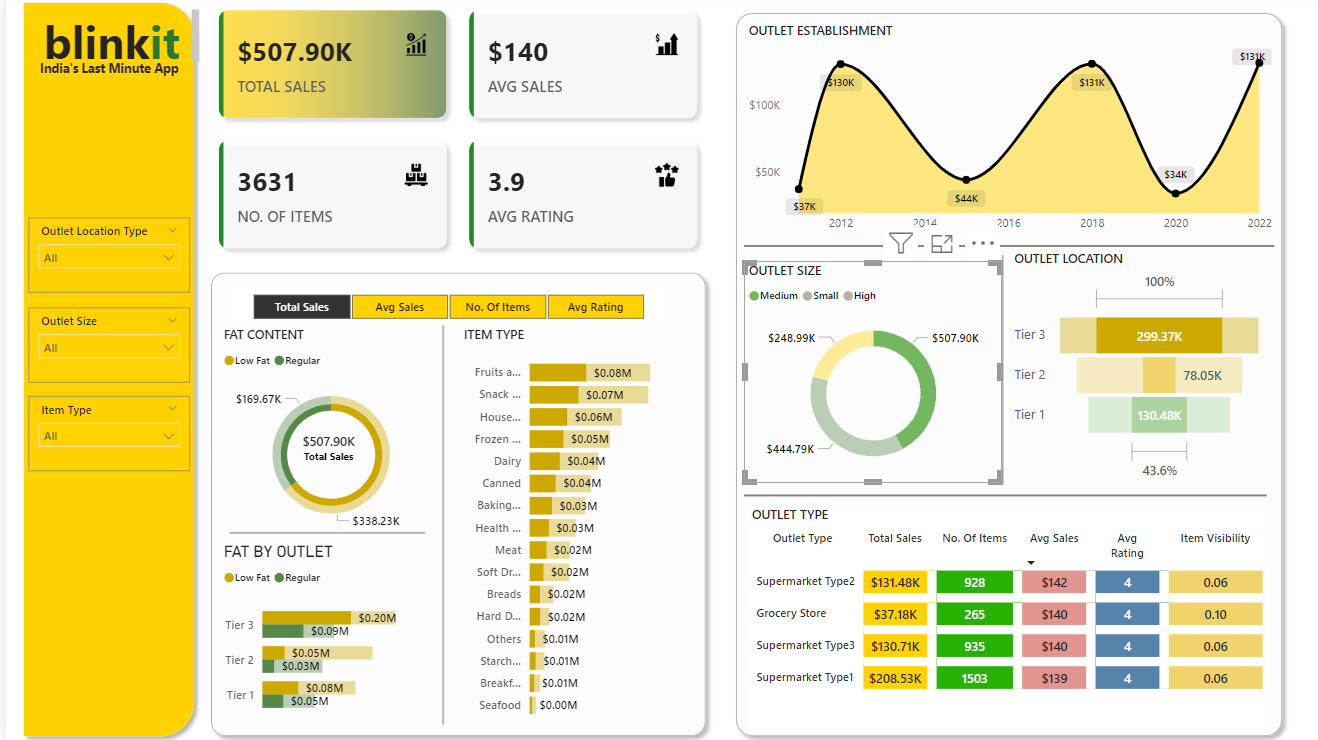

The dashboard page shown, as its layout file describes it:
{"tool":"powerbi","page":{"name":"Page 1","canvas":[1400,800],"ordinal":0},"visuals":[{"type":"shape","box":[10,0,200,800],"z":0},{"type":"textbox","box":[34.8,11.6,175.6,69.6],"z":1000},{"type":"textbox","box":[23.2,64.6,172.2,31.5],"z":2000},{"type":"cardVisual","fields":{"Data":["BlinkIT Grocery Data.Total Sales","BlinkIT Grocery Data.Avg Sales","BlinkIT Grocery Data.No. Of Items","BlinkIT Grocery Data.Avg Rating"]},"box":[210,0,545,288.3],"z":3000},{"type":"shape","box":[210,288.3,545,511.7],"z":4000},{"type":"donutChart","title":"FAT CONTENT","fields":{"Y":["BlinkIT Grocery Data.Total Sales"],"Category":["BlinkIT Grocery Data.Item Fat Content"]},"box":[226.7,353.3,238.3,230],"z":5000},{"type":"slicer","fields":{"Values":["Metrics.Metrics"]},"box":[238.5,313,465.4,39.7],"z":6000},{"type":"cardVisual","fields":{"Data":["BlinkIT Grocery Data.Total Sales"]},"box":[246.7,421.7,195,123.3],"z":7000},{"type":"clusteredBarChart","title":"FAT BY OUTLET","fields":{"Y":["BlinkIT Grocery Data.Total Sales"],"Category":["BlinkIT Grocery Data.Outlet Location Type"],"Series":["BlinkIT Grocery Data.Item Fat Content"]},"box":[226.7,583.3,238.3,198.3],"z":8000},{"type":"shape","box":[238.3,563.3,208.3,20],"z":9000},{"type":"shape","box":[446.7,353.3,36.7,425],"z":10000},{"type":"barChart","title":"ITEM TYPE","fields":{"Y":["BlinkIT Grocery Data.Total Sales"],"Category":["BlinkIT Grocery Data.Item Type"]},"box":[483.3,353.3,248.3,428.3],"z":11000},{"type":"shape","box":[768.3,11.7,600,788.3],"z":12000},{"type":"lineChart","title":"OUTLET ESTABLISHMENT","fields":{"Category":["BlinkIT Grocery Data.Outlet Establishment Year"],"Y":["BlinkIT Grocery Data.Total Sales"]},"box":[786.7,28.3,566.7,233.3],"z":13000},{"type":"shape","box":[786.7,250,565,38.3],"z":14000},{"type":"donutChart","title":"OUTLET SIZE","fields":{"Category":["BlinkIT Grocery Data.Outlet Size"],"Y":["BlinkIT Grocery Data.Total Sales"]},"box":[786.7,285,275,236.7],"z":15000},{"type":"shape","box":[1043.3,278.3,36.7,243.3],"z":16000},{"type":"funnel","title":"OUTLET LOCATION","fields":{"Y":["Sum(BlinkIT Grocery Data.Sales)"],"Category":["BlinkIT Grocery Data.Outlet Location Type"]},"box":[1068.3,271.7,275,250],"z":17000},{"type":"shape","box":[786.7,503.3,556.7,61.7],"z":18000},{"type":"pivotTable","title":"OUTLET TYPE","fields":{"Rows":["BlinkIT Grocery Data.Outlet Type"],"Values":["BlinkIT Grocery Data.Total Sales","BlinkIT Grocery Data.No. Of Items","BlinkIT Grocery Data.Avg Sales","BlinkIT Grocery Data.Avg Rating","Avg(BlinkIT Grocery Data.Item Visibility)"]},"box":[790,545,556.7,236.7],"z":19000},{"type":"slicer","fields":{"Values":["BlinkIT Grocery Data.Outlet Location Type"]},"box":[23.3,238.3,171.7,80],"z":19001},{"type":"slicer","fields":{"Values":["BlinkIT Grocery Data.Outlet Size"]},"box":[23.3,333.3,171.7,80],"z":19002},{"type":"slicer","fields":{"Values":["BlinkIT Grocery Data.Item Type"]},"box":[23.3,428.3,171.7,80],"z":19003}]}

Visuals, with their boxes in screenshot pixels (x1, y1, x2, y2), scaled from the page's 1400x800 canvas onto the 1318x740 screenshot:
shape: crop(9, 0, 198, 739)
textbox: crop(33, 11, 198, 75)
textbox: crop(22, 60, 184, 89)
cardVisual - BlinkIT Grocery Data.Total Sales x BlinkIT Grocery Data.Avg Sales: crop(198, 0, 711, 267)
shape: crop(198, 267, 711, 739)
"FAT CONTENT" donutChart: crop(213, 327, 438, 540)
slicer - Metrics.Metrics: crop(225, 290, 663, 326)
cardVisual - BlinkIT Grocery Data.Total Sales: crop(232, 390, 416, 504)
"FAT BY OUTLET" clusteredBarChart: crop(213, 540, 438, 723)
shape: crop(224, 521, 420, 540)
shape: crop(421, 327, 455, 720)
"ITEM TYPE" barChart: crop(455, 327, 689, 723)
shape: crop(723, 11, 1288, 739)
"OUTLET ESTABLISHMENT" lineChart: crop(741, 26, 1274, 242)
shape: crop(741, 231, 1273, 267)
"OUTLET SIZE" donutChart: crop(741, 264, 1000, 483)
shape: crop(982, 257, 1017, 482)
"OUTLET LOCATION" funnel: crop(1006, 251, 1265, 483)
shape: crop(741, 466, 1265, 523)
"OUTLET TYPE" pivotTable: crop(744, 504, 1268, 723)
slicer - BlinkIT Grocery Data.Outlet Location Type: crop(22, 220, 184, 294)
slicer - BlinkIT Grocery Data.Outlet Size: crop(22, 308, 184, 382)
slicer - BlinkIT Grocery Data.Item Type: crop(22, 396, 184, 470)
